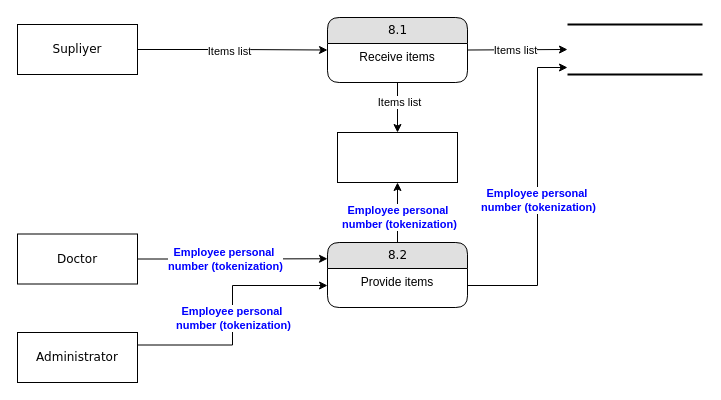
Some shapes in this 721 by 400 pixel diagram are drawn without their labels. Here are the shapes that lost their labels. From the top down, the centre of each, then its label:
At [634,49]: "Warehouse System".
At [397,157]: "Warehouse Keeper".
